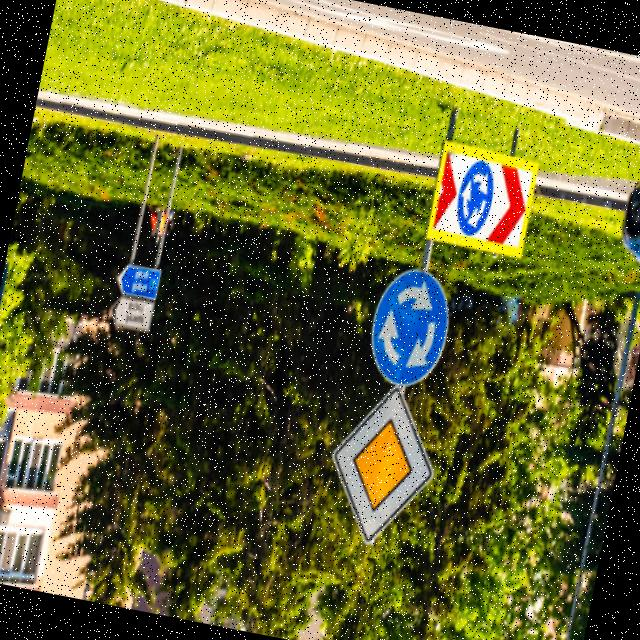round_about: (360, 254, 466, 395)
